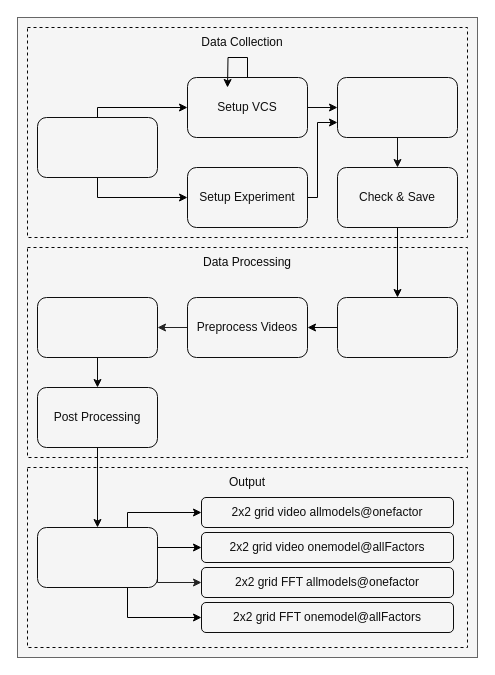
Image size: 495x675. Some labels were removed from this diagram. The shapes that lost their labels are listed below. From the top down, each one's centre as x and y in pixels, then its label:
(397,107): Run Experiment
(97,147): Video Capture plan
(97,327): Motion Magnification
(397,327): Prep Input folder
(97,557): Evaluation
